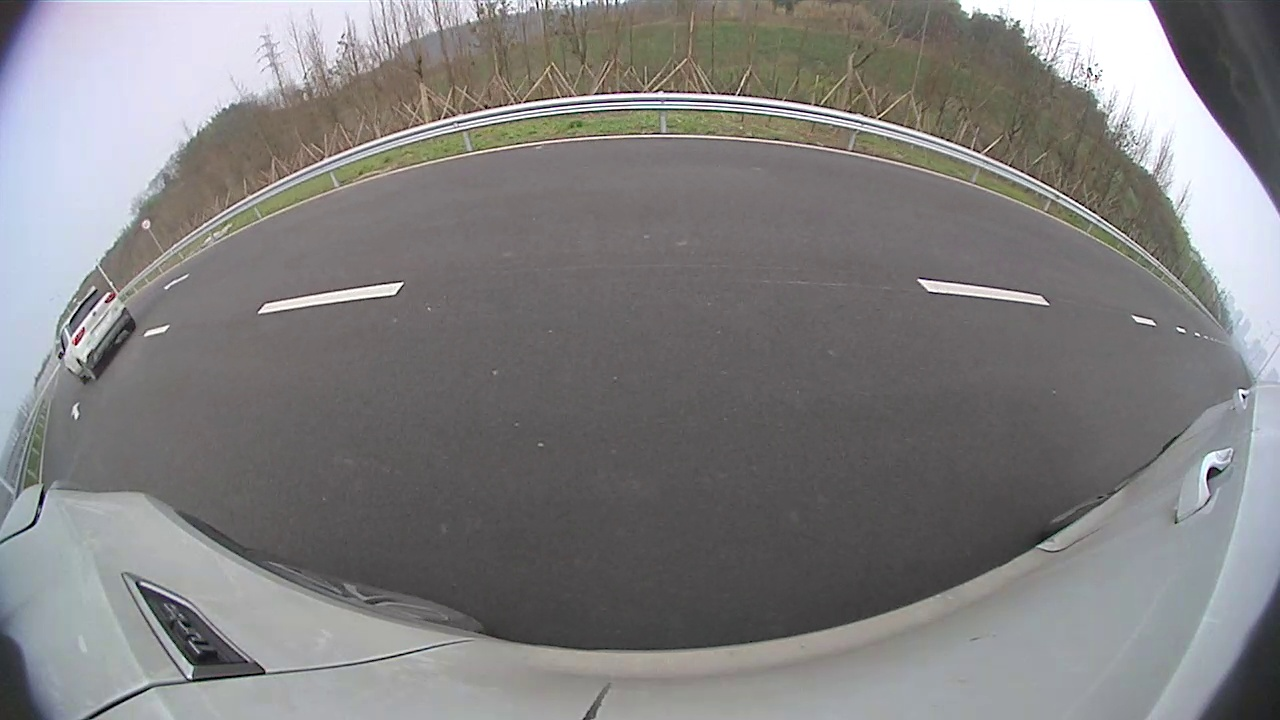car: (670, 137, 780, 207)
front: (670, 172, 684, 197)
rear: (698, 174, 717, 203)
